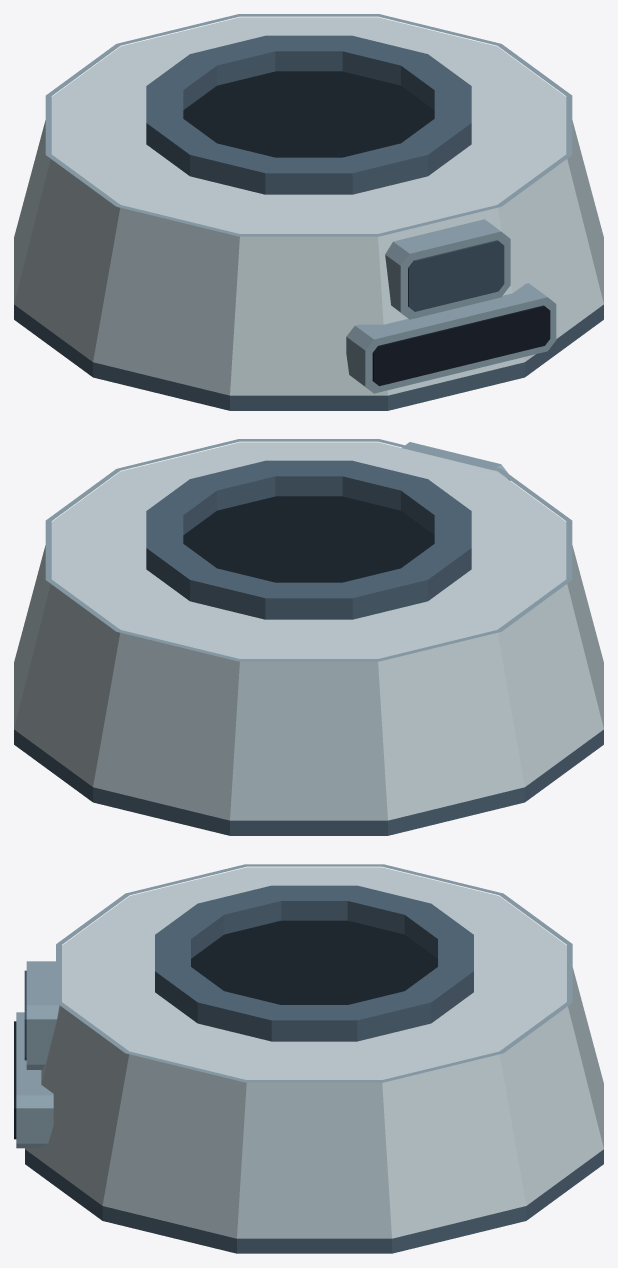
The model's file is BIY_TimerPedestal_Simple.fbx.
The picture shows the model from 3 angles, top to bottom: view 1: azimuth 30°, elevation 25°; view 2: azimuth 150°, elevation 25°; view 3: azimuth 270°, elevation 25°; orthographic projection.
Parts seen in each view (by area): view 1: 01_LowPoly_Ceramic_Body, 05_Countdown_Blank_Surface, 04_Countdown_Frame, 03_NodeType_Blank_Surface, 02_NodeType_Frame; view 2: 01_LowPoly_Ceramic_Body, 02_NodeType_Frame; view 3: 01_LowPoly_Ceramic_Body, 04_Countdown_Frame, 02_NodeType_Frame.
Part boxes in pixels (x1,y1,x2,y2): 01_LowPoly_Ceramic_Body: (14,14,603,410); 05_Countdown_Blank_Surface: (372,305,550,386); 04_Countdown_Frame: (346,283,556,393); 03_NodeType_Blank_Surface: (408,240,504,311); 02_NodeType_Frame: (385,219,510,319); 01_LowPoly_Ceramic_Body: (14,439,603,835); 02_NodeType_Frame: (402,442,510,480); 01_LowPoly_Ceramic_Body: (25,864,603,1253); 04_Countdown_Frame: (16,1012,53,1148); 02_NodeType_Frame: (26,961,59,1069).
Size of the model in its own units: 0.7708 by 0.262 by 0.7854.
